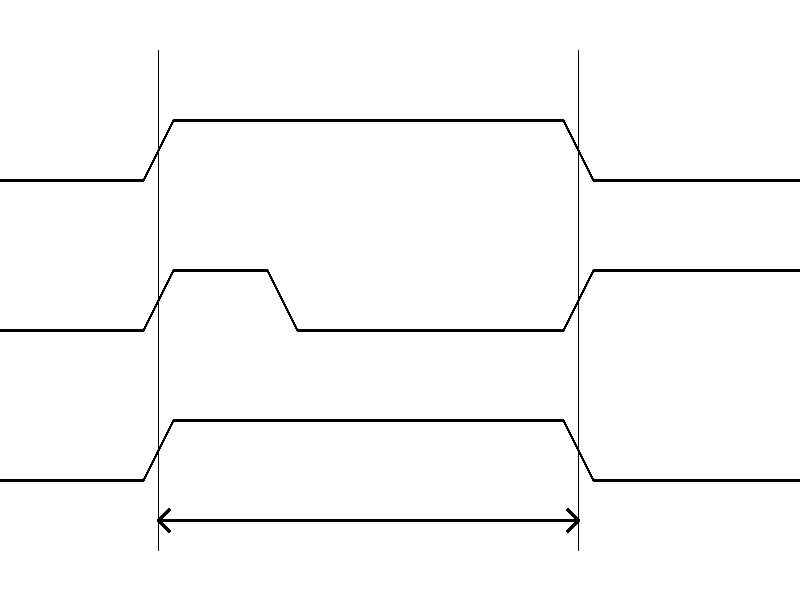double_arrow: (158, 505, 578, 535)
